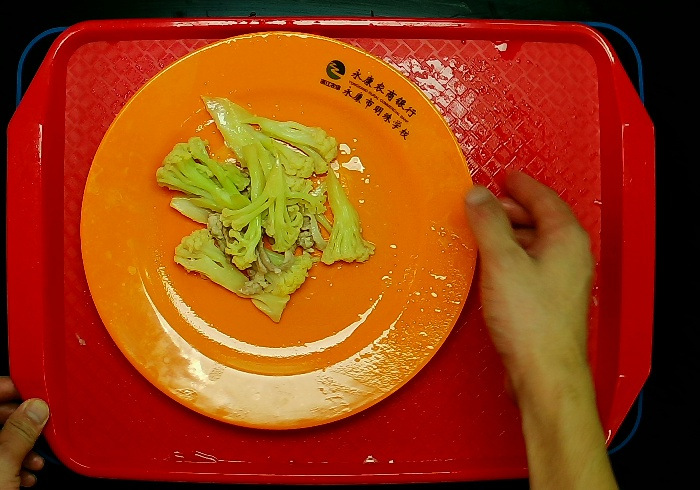YKMZ-Ju_Se_Mian_Pan: (71, 26, 482, 433)
